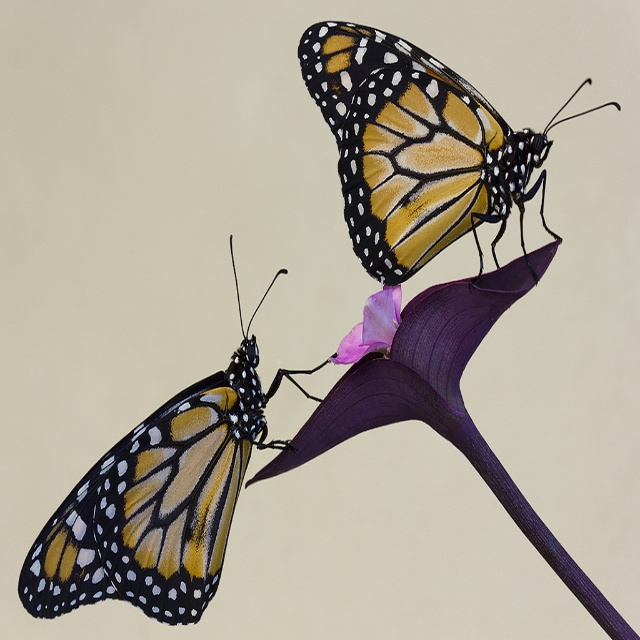Butterfly: (15, 231, 337, 620), (298, 17, 623, 282)
